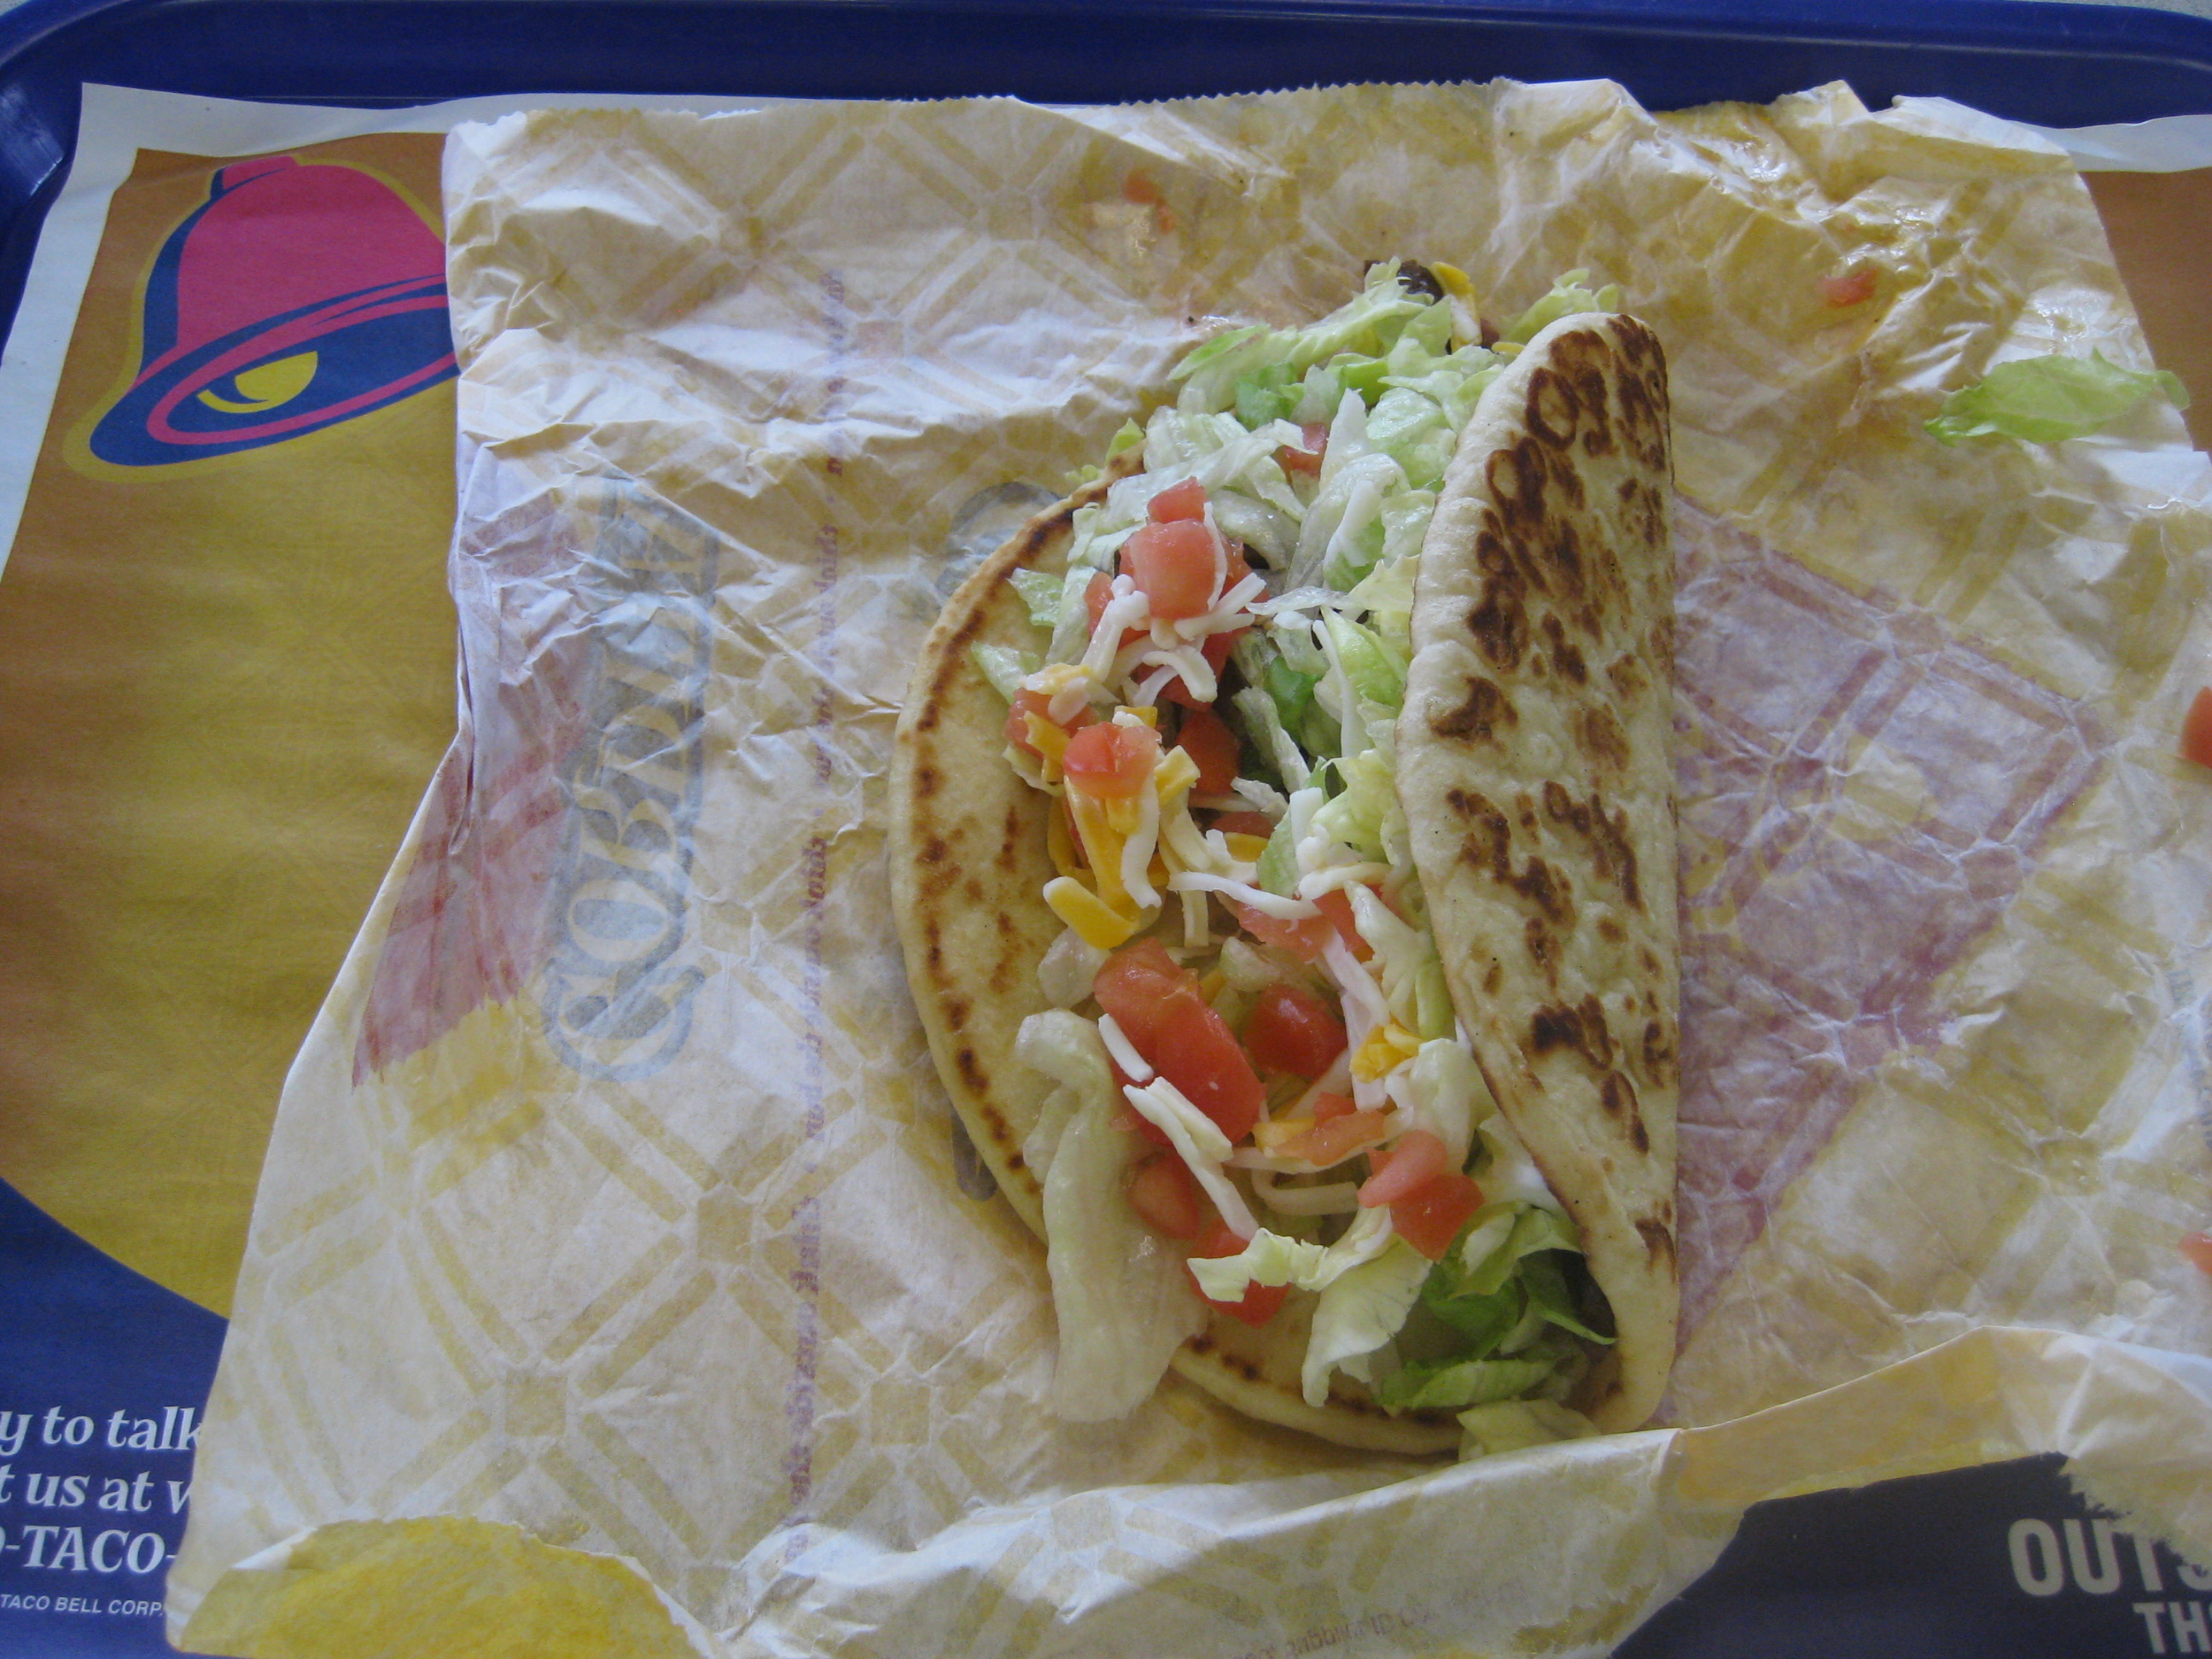taco: (810, 219, 1854, 1437)
